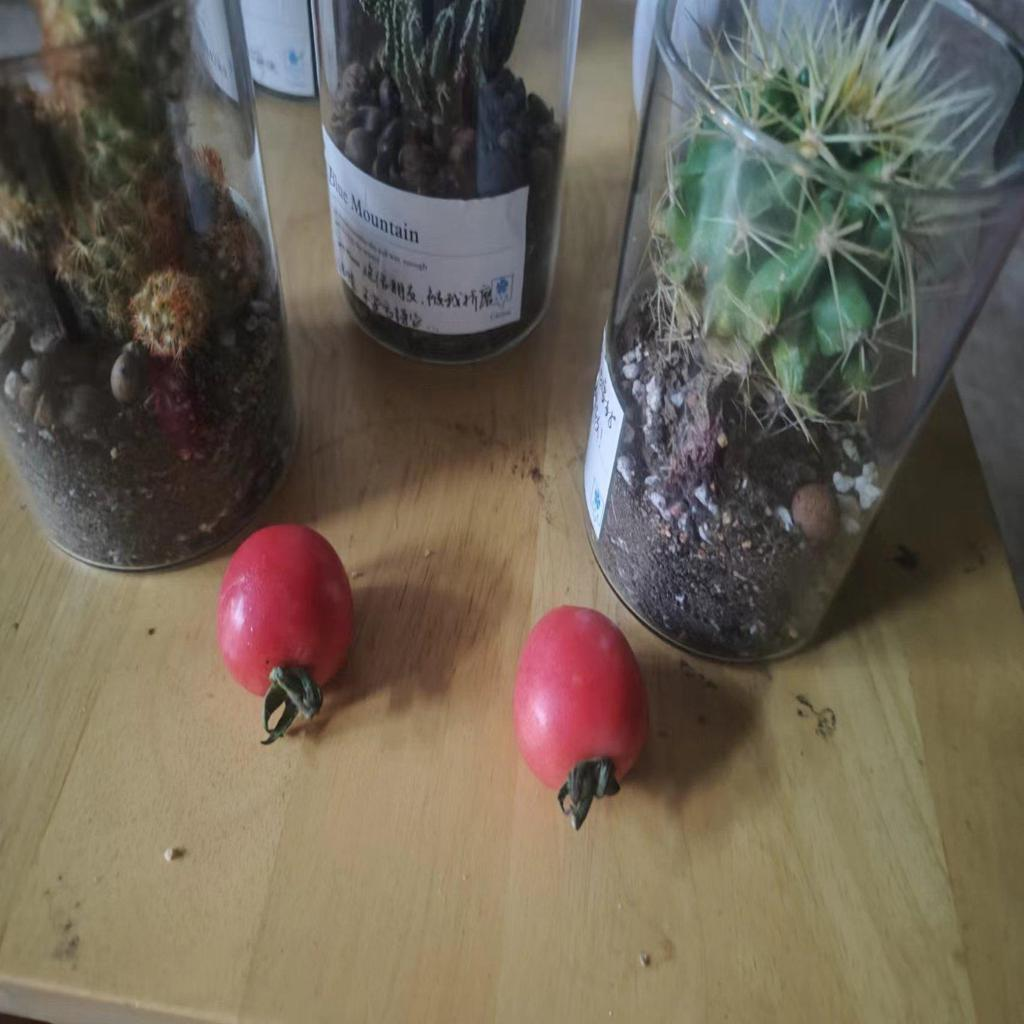tomato: (217, 522, 351, 709), (518, 606, 643, 799)
